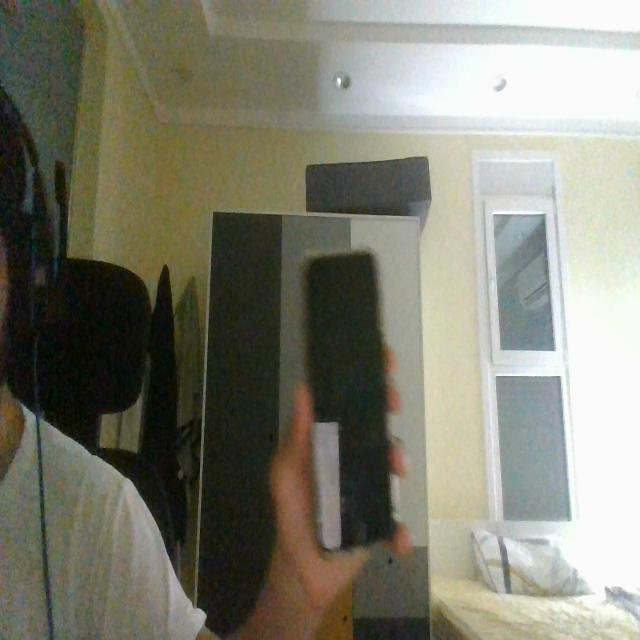Phone: (297, 247, 400, 558)
